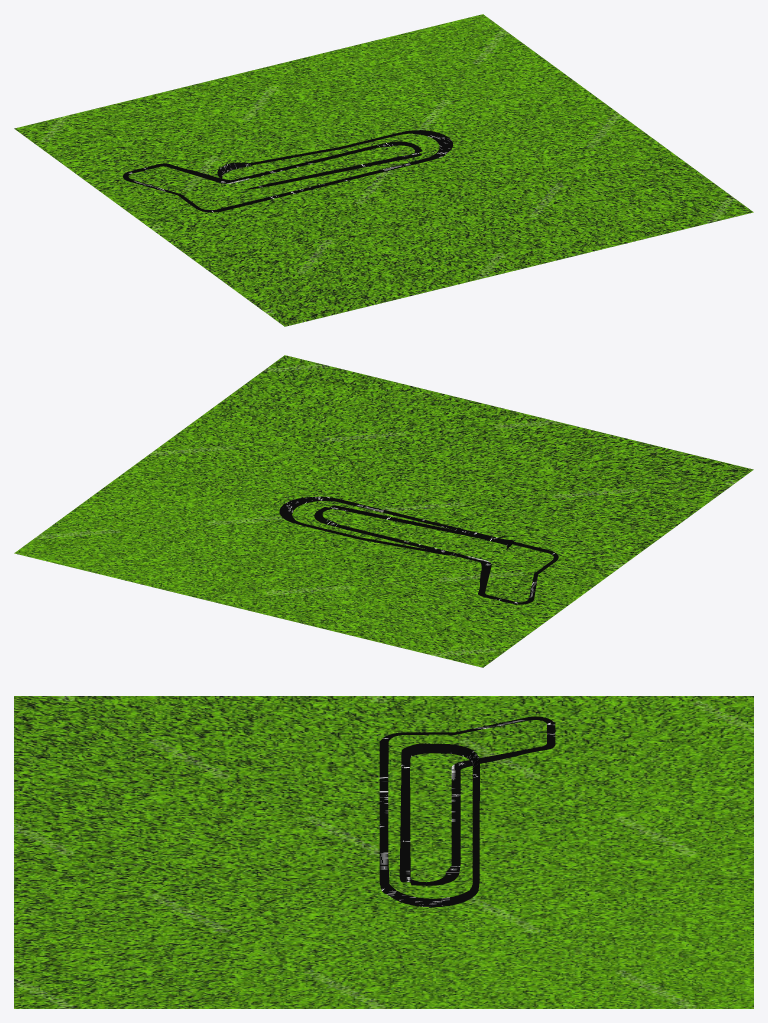
File: mHistoricV2.glb
The picture shows the model from 3 angles, top to bottom: view 1: azimuth 30°, elevation 25°; view 2: azimuth 150°, elevation 25°; view 3: azimuth 270°, elevation 25°; orthographic projection. The views are drawn at different scales.
Parts seen in each view (by area): view 1: Plane.001, Plane; view 2: Plane.001, Plane; view 3: Plane.001, Plane.
Boxes of the visible parts, bbox=[...] form: Plane.001: bbox=[14, 14, 753, 326]; Plane: bbox=[123, 130, 453, 212]; Plane.001: bbox=[14, 355, 753, 667]; Plane: bbox=[279, 496, 558, 604]; Plane.001: bbox=[14, 696, 753, 1008]; Plane: bbox=[379, 716, 555, 907].
Bounding box in the file's own units: 1400 × 30.72 × 1400.
2 materials, 2 textured.
